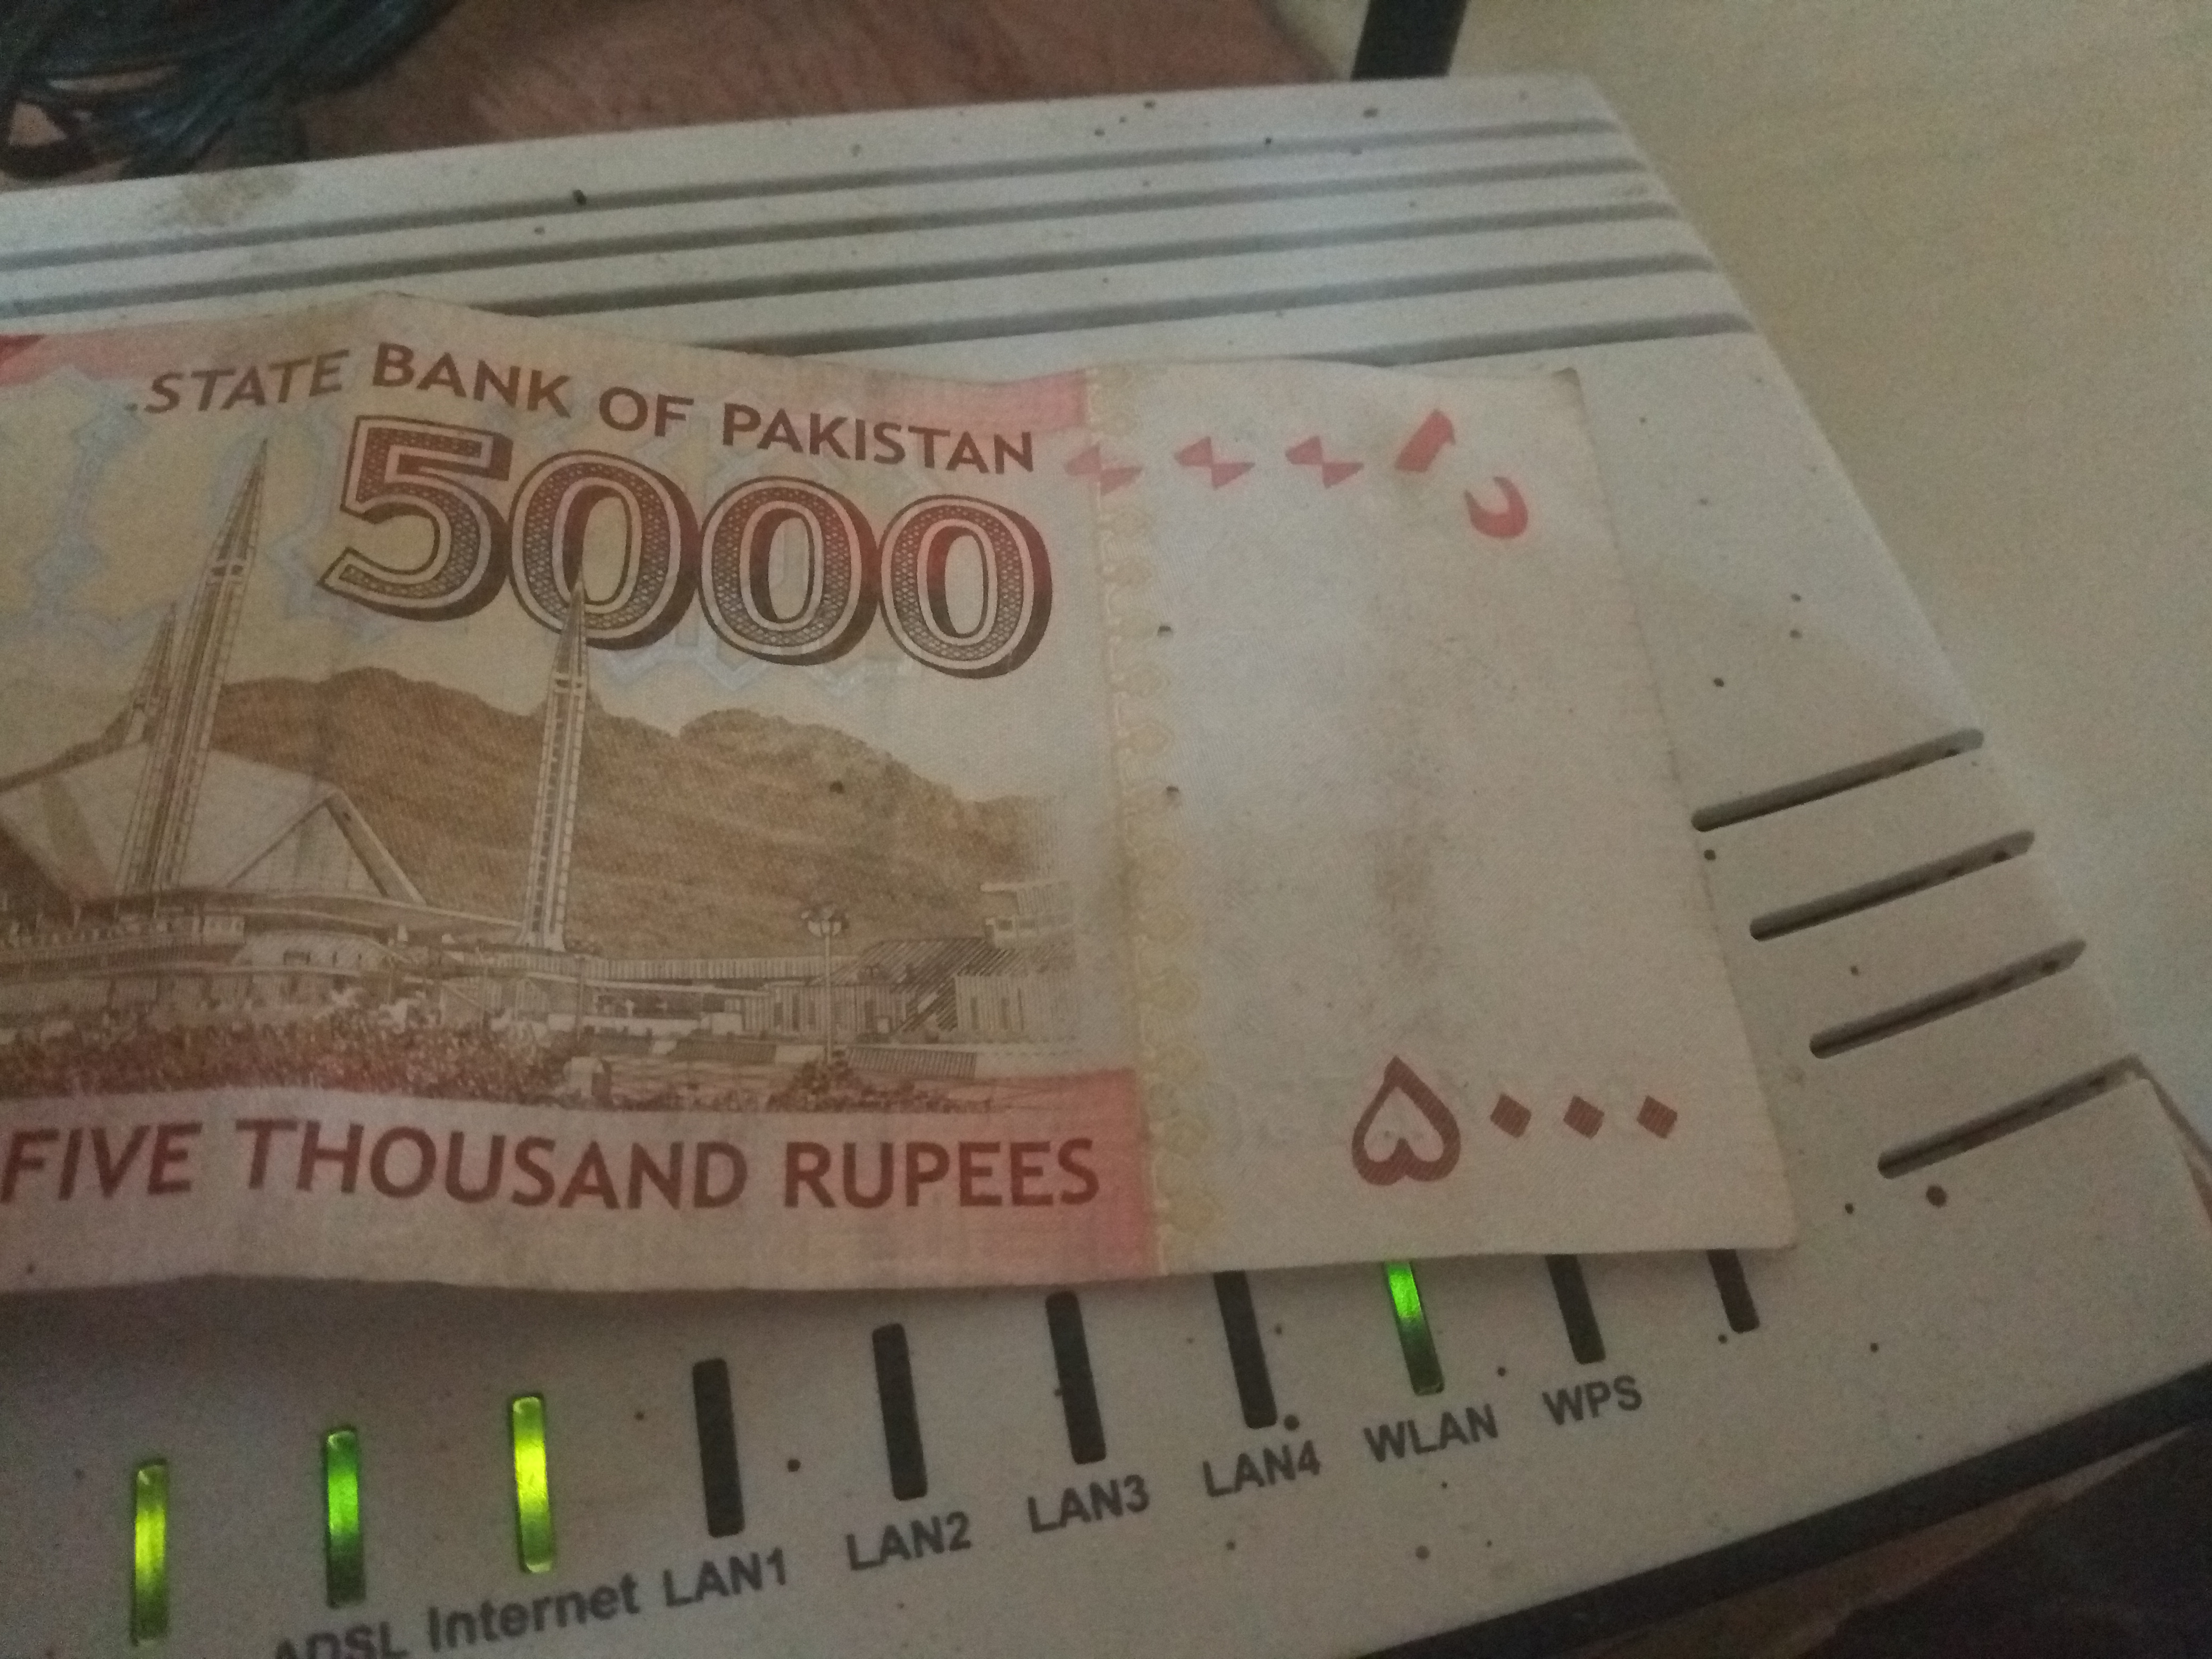5000 rupee: (19, 268, 1979, 1338), (1237, 1040, 1749, 1246)
